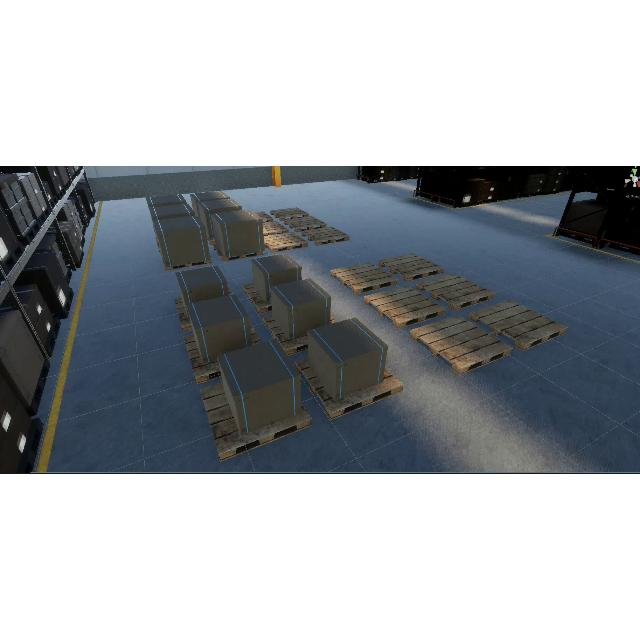wooden_pallet: (200, 383, 313, 462), (295, 358, 404, 421), (409, 314, 514, 375), (468, 299, 568, 351), (363, 286, 447, 329), (416, 273, 496, 311), (330, 263, 398, 295), (301, 226, 350, 246), (213, 244, 264, 263), (264, 231, 309, 252)
